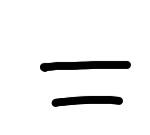eqv: (40, 61, 132, 107)
